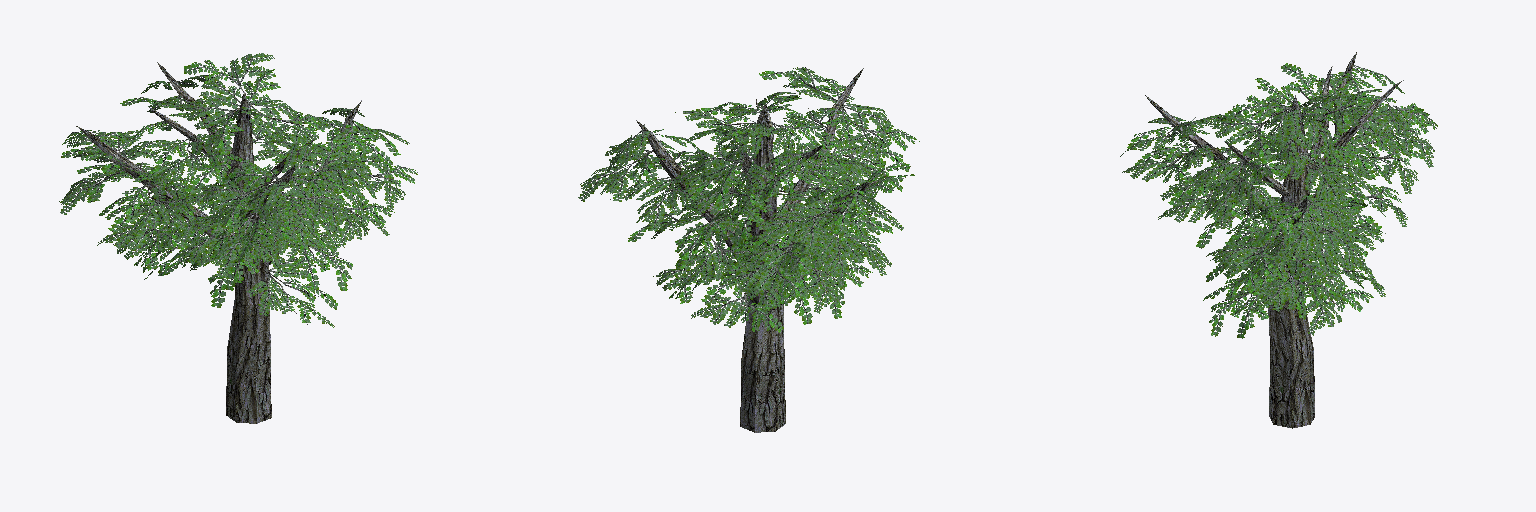
3 views of the same model, side by side, from view 1: azimuth 30°, elevation 25°; view 2: azimuth 150°, elevation 25°; view 3: azimuth 270°, elevation 25° (orthographic).
Visible parts, largest first — view 1: polySurface991; view 2: polySurface991; view 3: polySurface991.
Part boxes in pixels (x1,y1,x2,y2): polySurface991: (59,53,417,423); polySurface991: (578,67,919,432); polySurface991: (1120,52,1437,428).
Size of the model in its own units: 169 by 162 by 148.
1 materials, 1 textured.